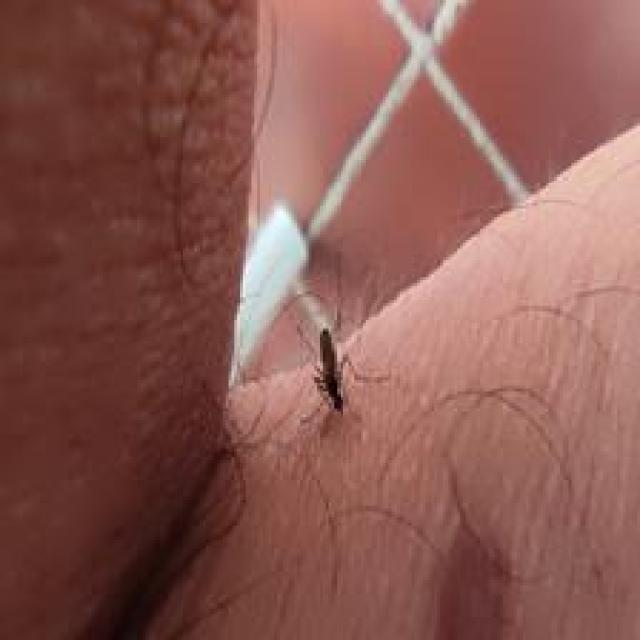Aedes albopictus: (294, 318, 389, 416)
